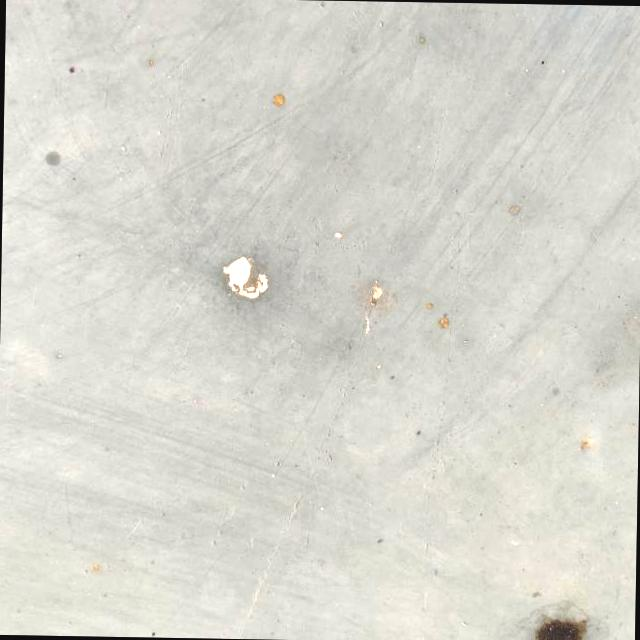paint-off: (202, 232, 286, 321)
